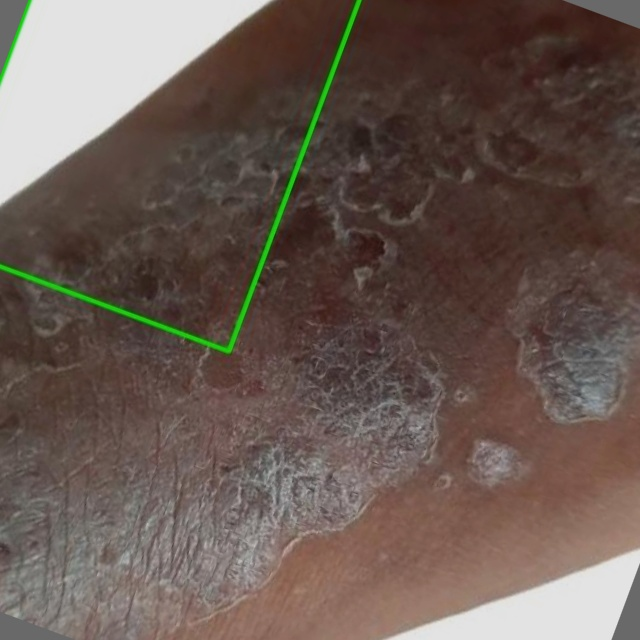Contact Dermatitis: (0, 0, 359, 351)
